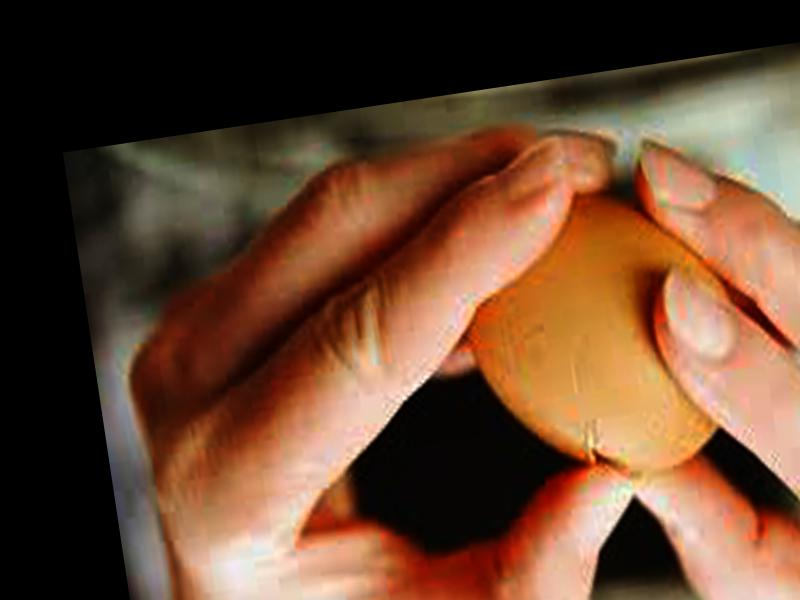Eggs: (450, 170, 756, 499)
